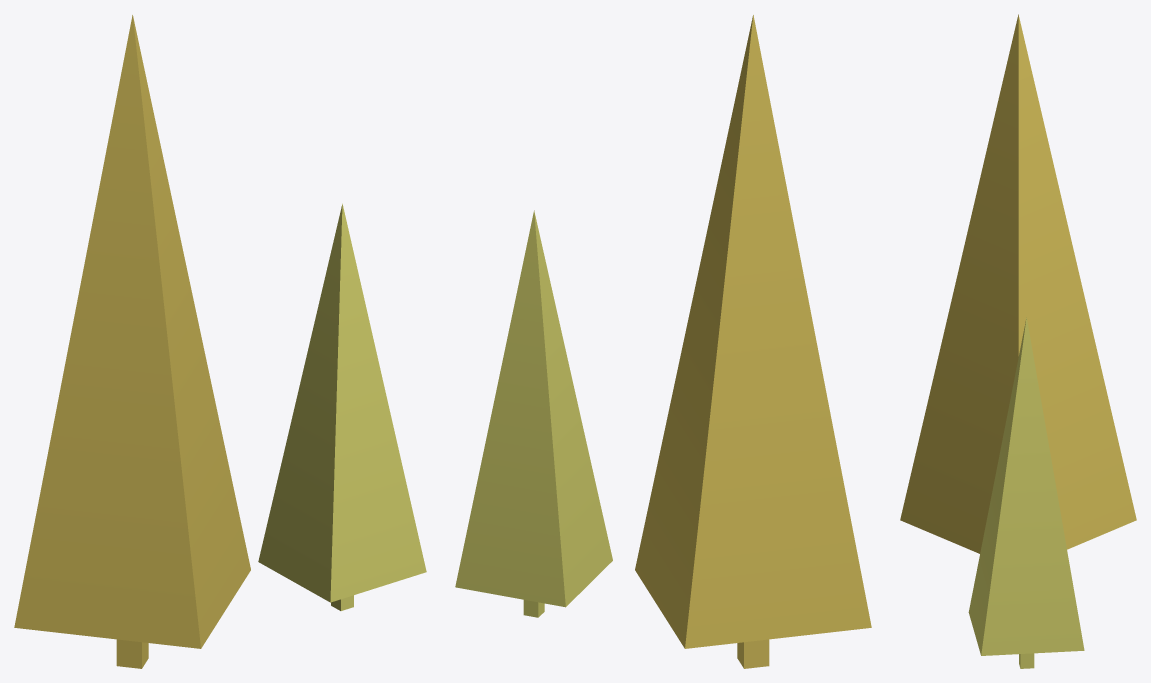
The model's file is Woods-tree2.fbx.
3 views of the same model, side by side, from view 1: azimuth 30°, elevation 25°; view 2: azimuth 150°, elevation 25°; view 3: azimuth 270°, elevation 25° (orthographic). The views are drawn at different scales.
Parts seen in each view (by area): view 1: pPyramid7; view 2: pPyramid7; view 3: pPyramid7.
Boxes of the visible parts, x1,y1,x2,y2 form: pPyramid7: (14,15,426,668); pPyramid7: (455,15,871,668); pPyramid7: (900,14,1136,668).
Bounding box in the file's own units: 8.82 × 13.97 × 5.34.
